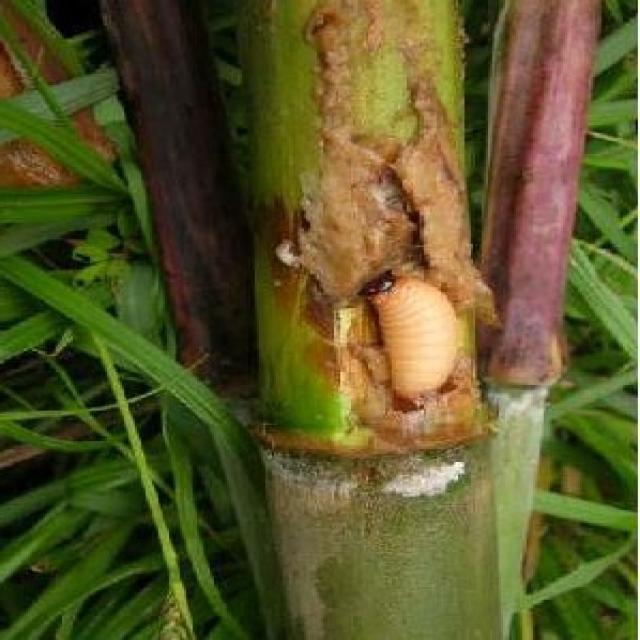grub: (363, 273, 465, 425)
